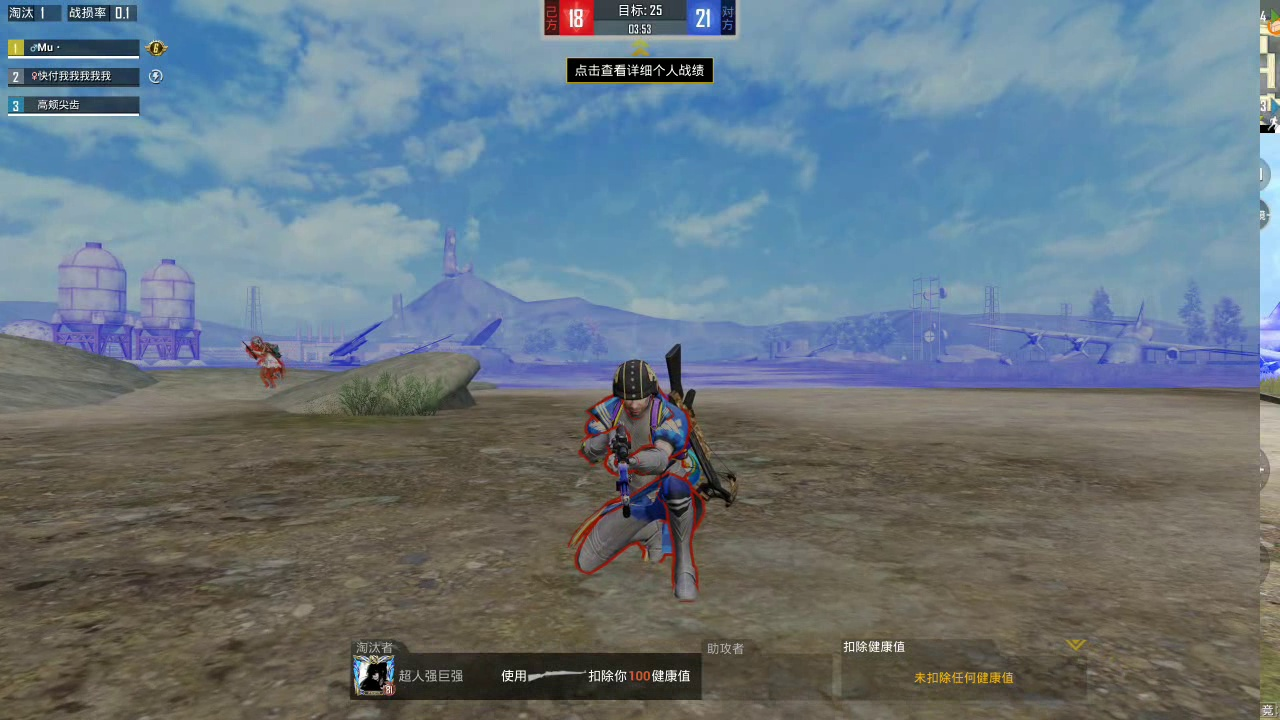enemy: (567, 361, 716, 598), (245, 334, 283, 387)
